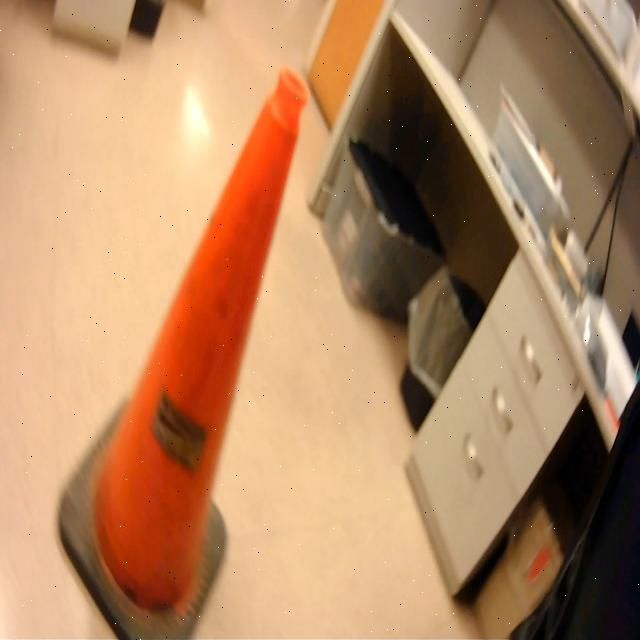traffic cone: (53, 59, 311, 640)
